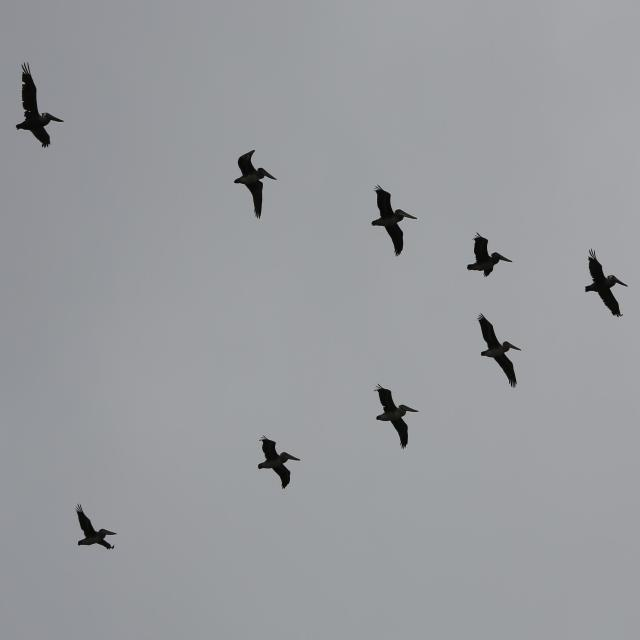bird: (14, 60, 66, 152), (369, 180, 419, 260), (583, 242, 629, 320), (232, 147, 280, 221), (476, 310, 522, 387), (372, 380, 421, 450), (462, 226, 514, 283), (253, 432, 302, 491), (70, 499, 118, 555)
